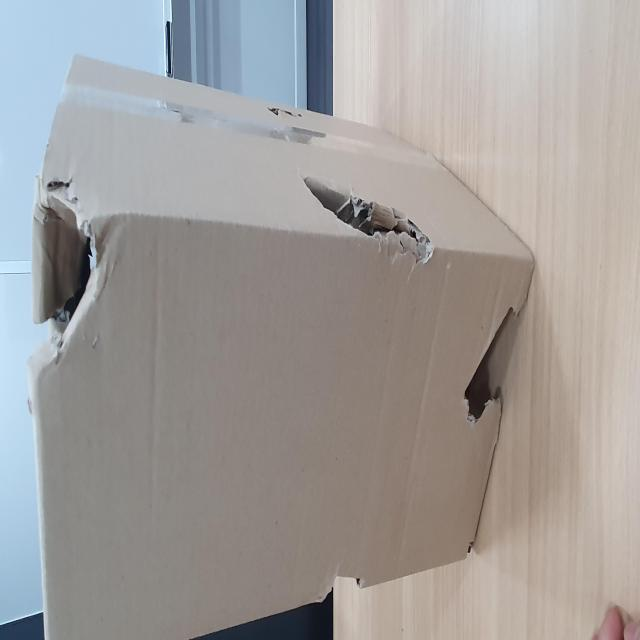damaged: (153, 72, 264, 206), (217, 538, 259, 640)
